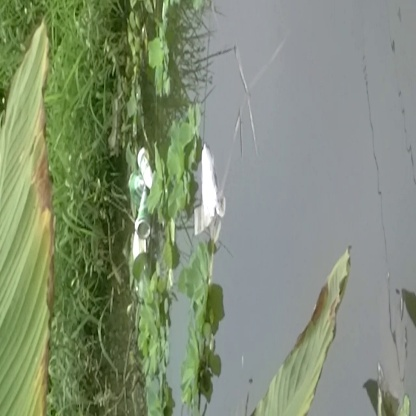bottle: (124, 166, 164, 244)
